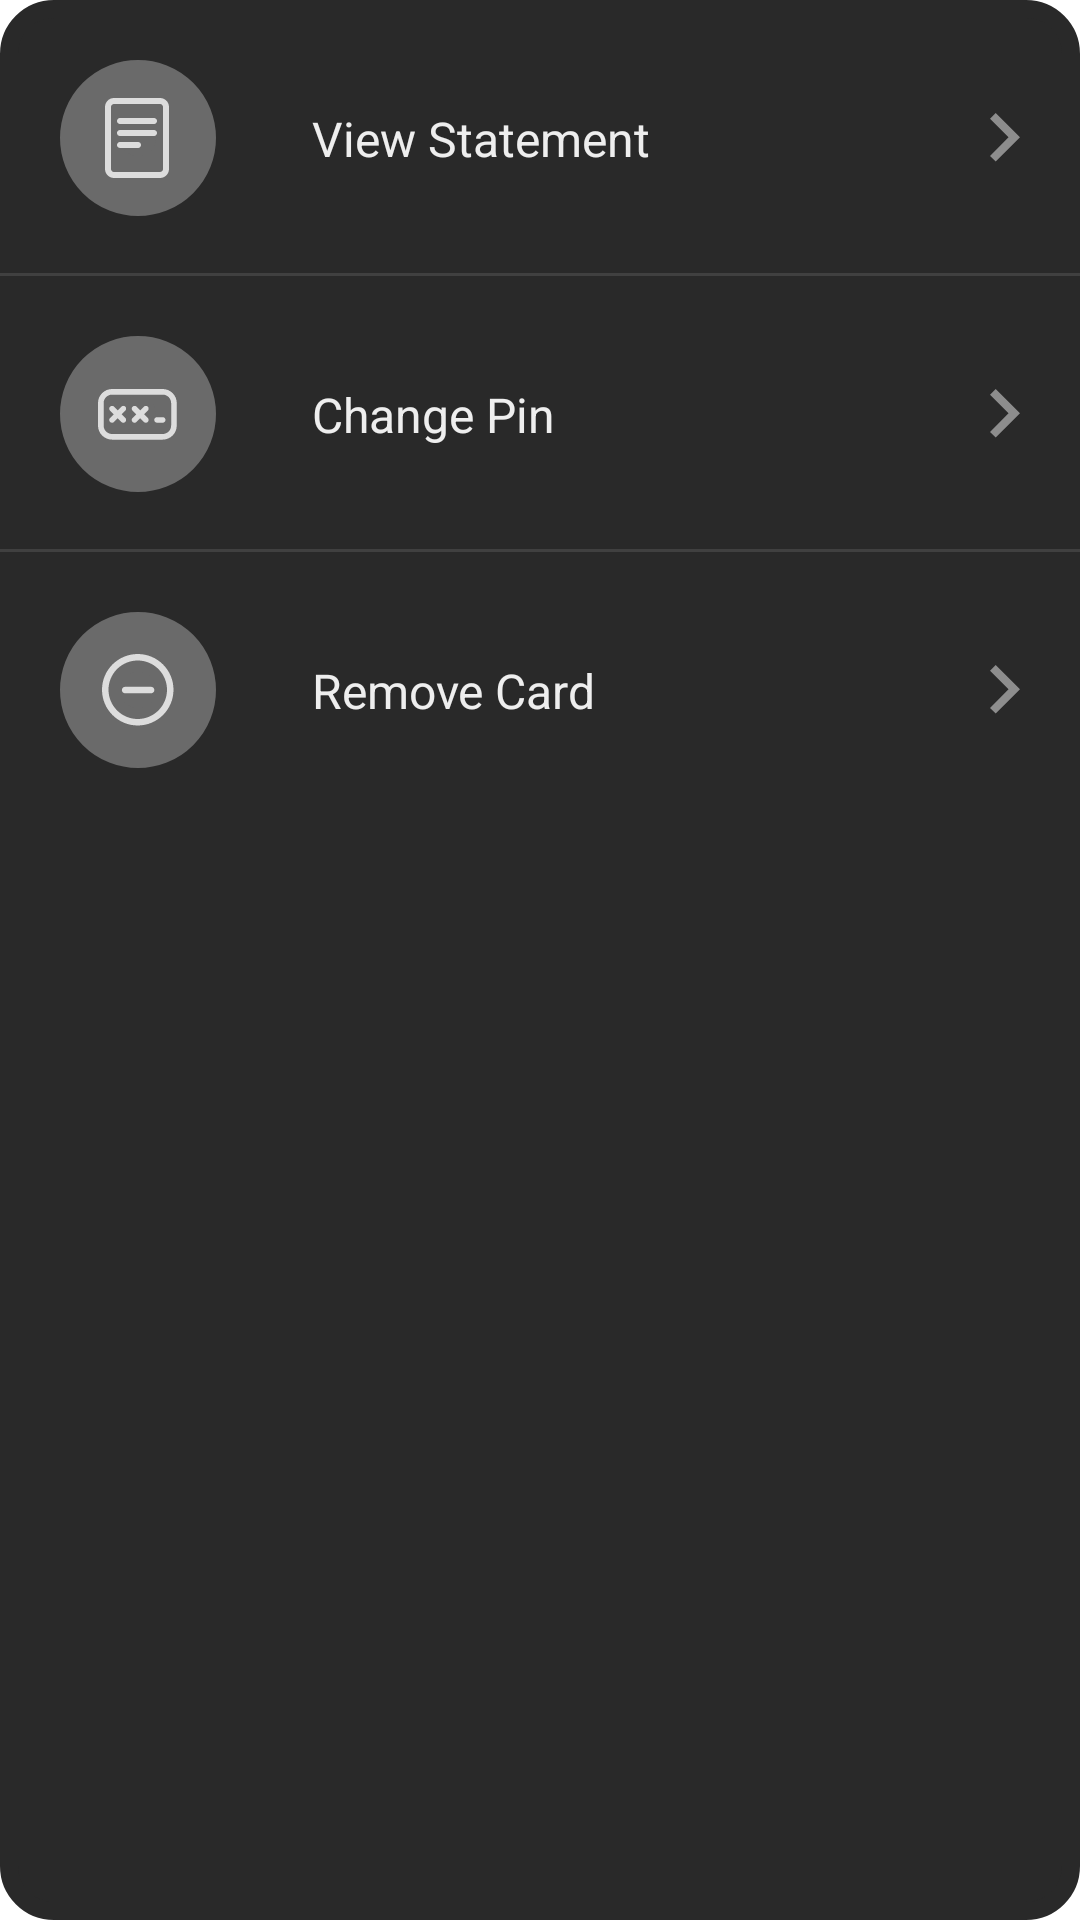

Screen size 1080 x 1920. Icon name, then its center in pixels as point (x, y):
arrow: point (1005, 137), point (1005, 413), point (1005, 689)
pin code: point (137, 414)
